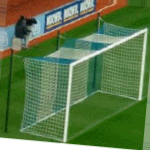goals: (20, 20, 150, 144)
